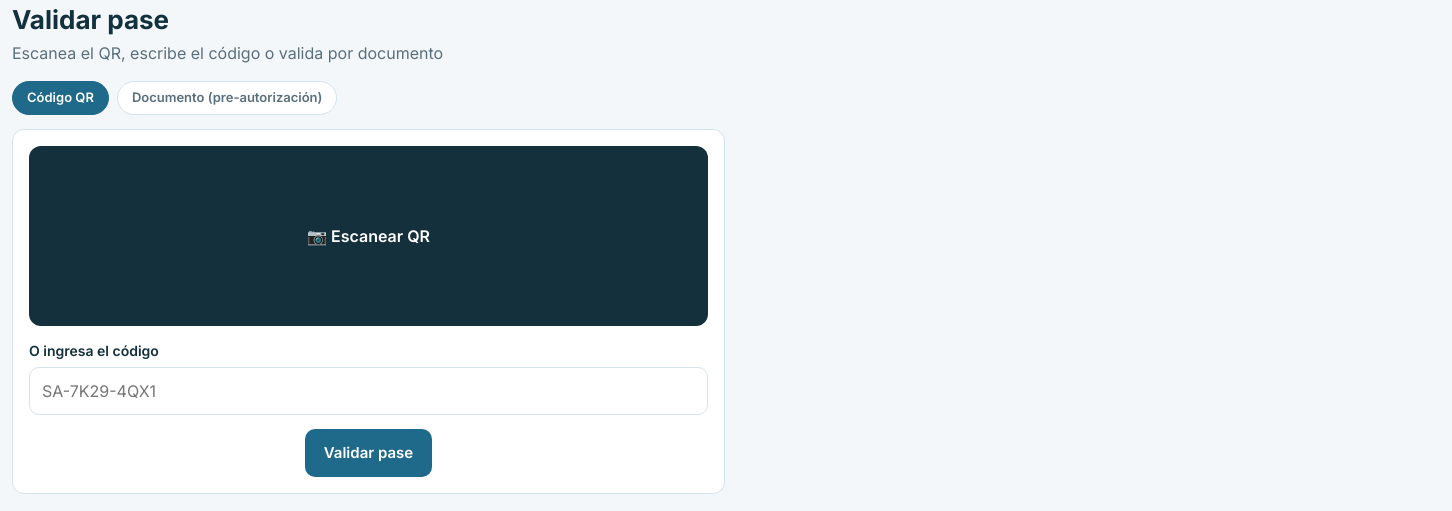
Test: ValidatePassPage › TC-QR-12 a second scan of a single-use pass shows the ALREADY_USED reason
The image size is (1452, 511).
In the field with placeholder "SA-7K29-4QX1": (368, 390) [29,366,708,414], type "SA-USED"
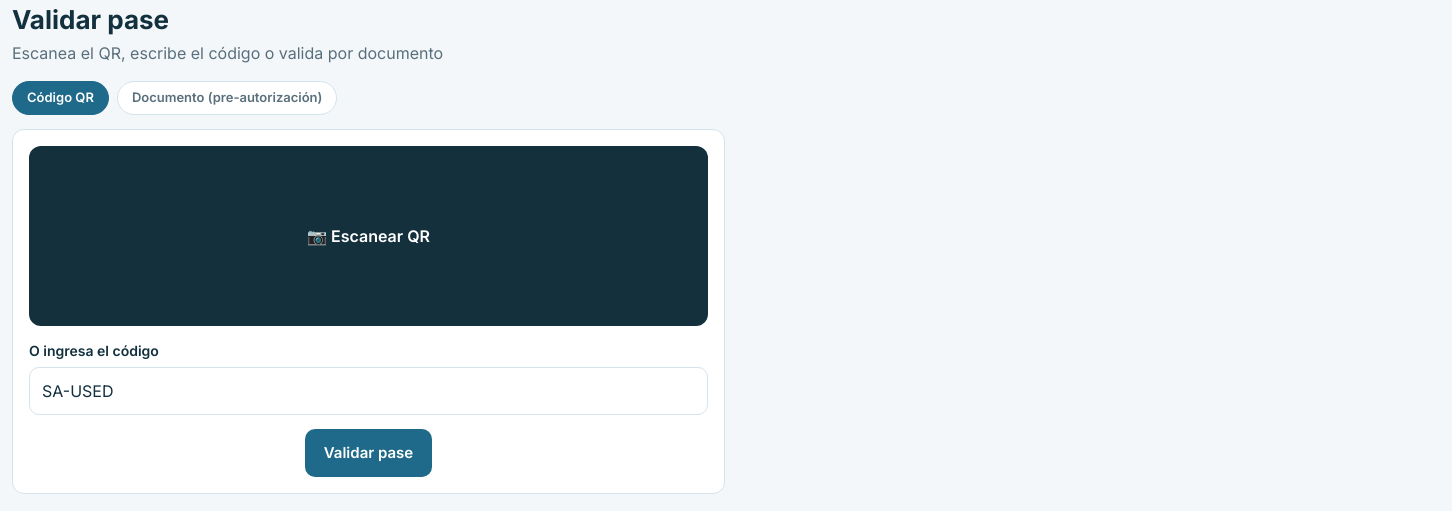
Click the button "Validar pase": (369, 453) [305,428,432,477]
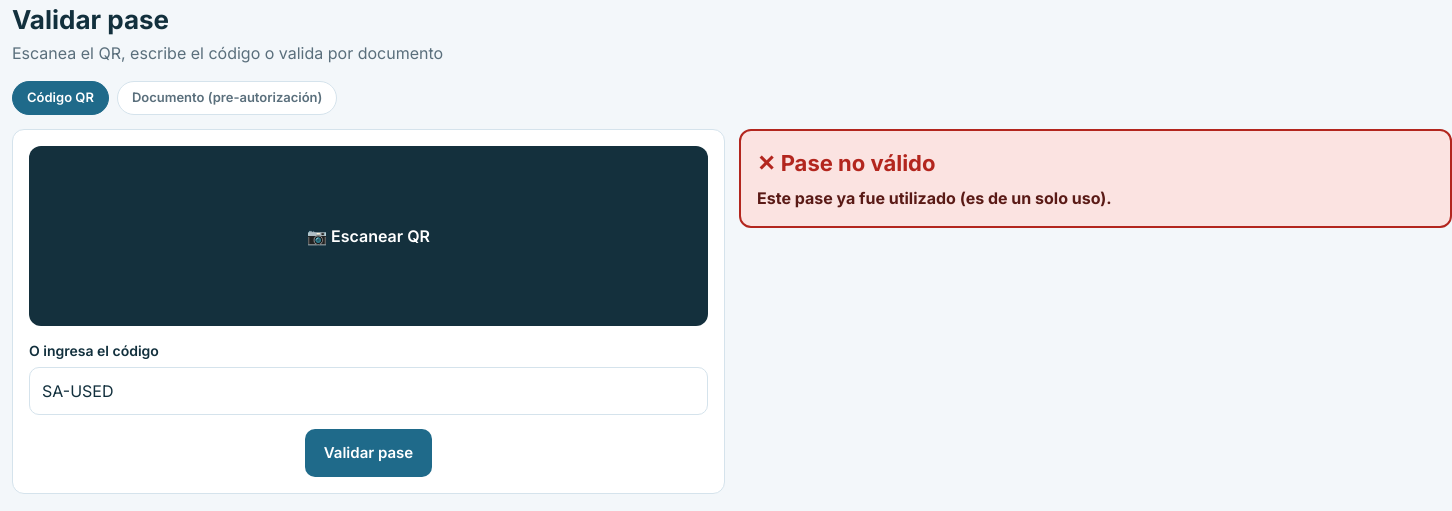
Result: the element with test id "reject-reason" reads "Este pase ya fue utilizado (es de un solo uso)." at [757,188,1112,208]
